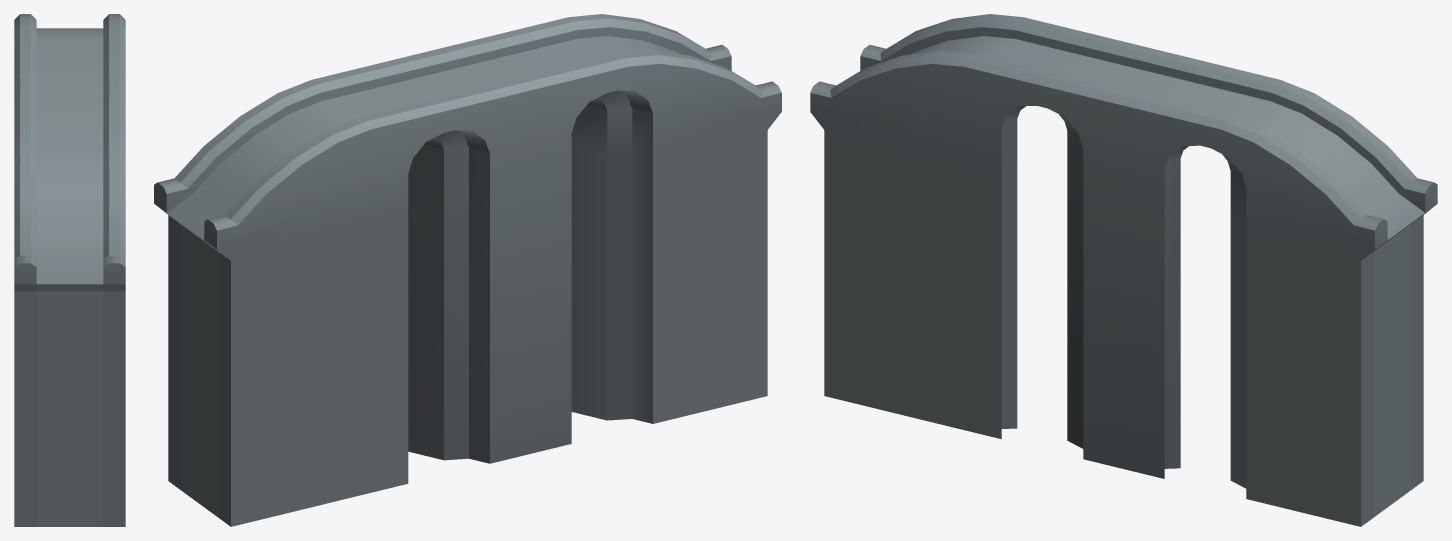
The model's file is kay-ponte-b.gltf.
3 renders of one model, left to right at view 1: azimuth 30°, elevation 25°; view 2: azimuth 150°, elevation 25°; view 3: azimuth 270°, elevation 25°, orthographic. The views are drawn at different scales.
Visible parts, largest first — view 1: building_bridge_B; view 2: building_bridge_B; view 3: building_bridge_B.
Boxes of the visible parts, x1,y1,x2,y2 form: building_bridge_B: (14, 14, 125, 526); building_bridge_B: (154, 14, 781, 526); building_bridge_B: (810, 14, 1437, 526).
Size of the model in its own units: 6.67 by 6.25 by 9.62.
Materials: 1 (1 with a texture image).
